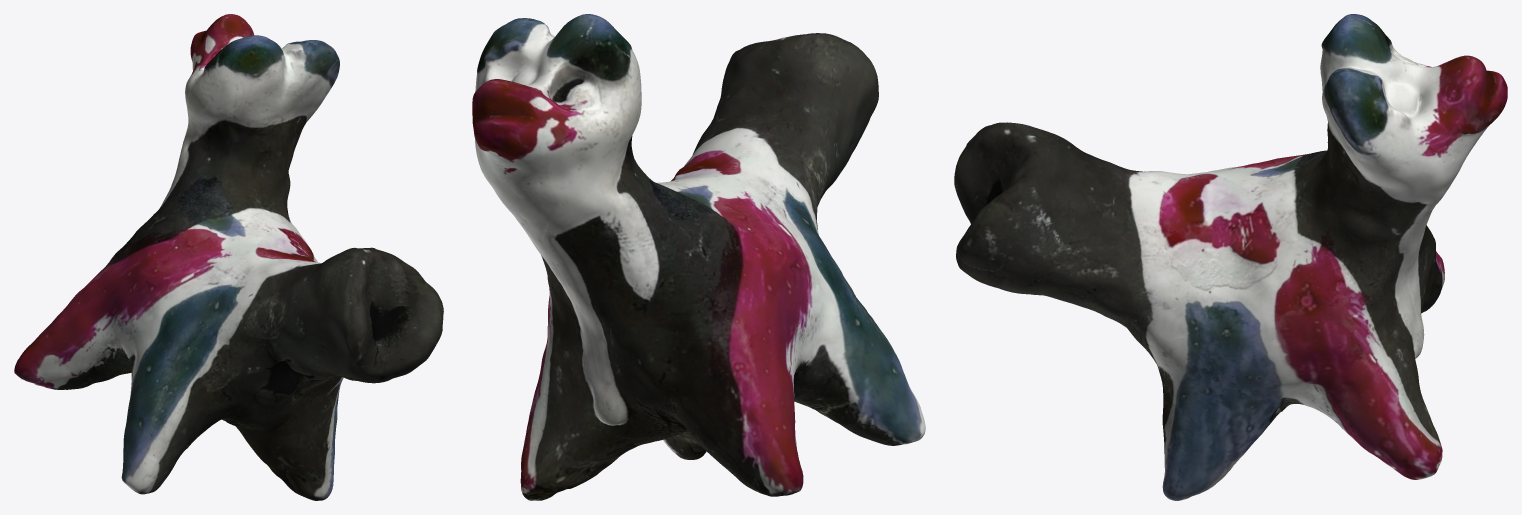
3 renders of one model, left to right at view 1: azimuth 30°, elevation 25°; view 2: azimuth 150°, elevation 25°; view 3: azimuth 270°, elevation 25°, orthographic. The views are drawn at different scales.
Size of the model in its own units: 0.3457 by 0.4603 by 0.4759.
Materials: 1 (1 with a texture image).
